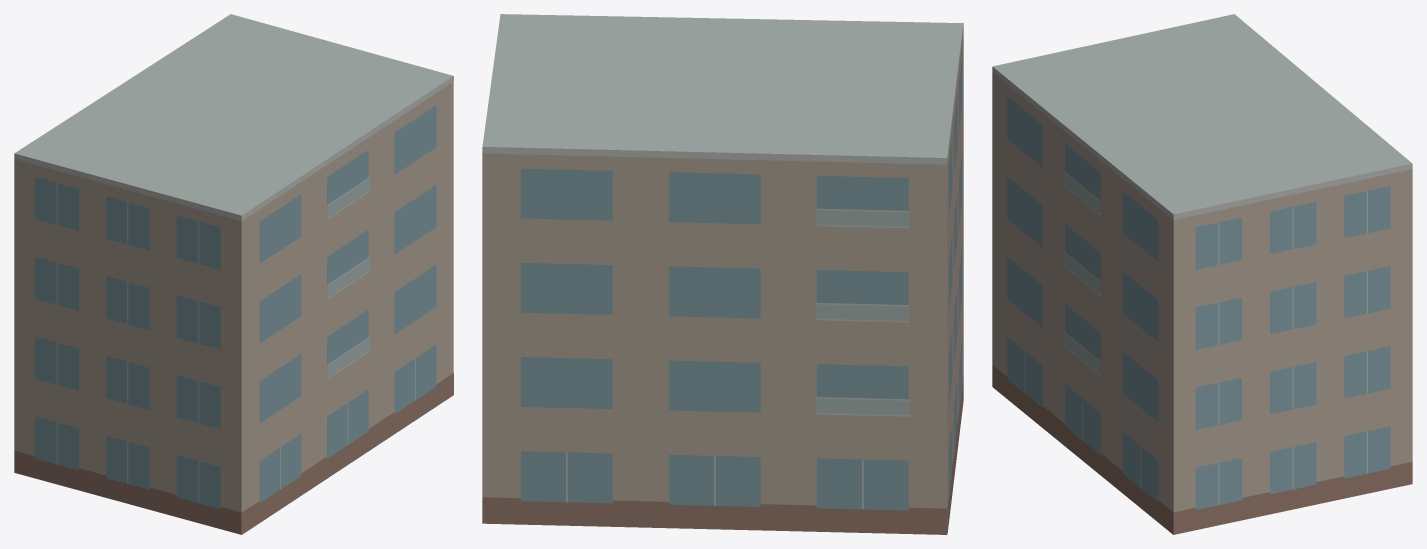
Rendered from survey-upis-32801569.glb.
The picture shows the model from 3 angles, left to right: view 1: azimuth 30°, elevation 25°; view 2: azimuth 150°, elevation 25°; view 3: azimuth 270°, elevation 25°; orthographic projection. The views are drawn at different scales.
Parts seen in each view (by area): view 1: survey-upis-32801569.tmp; view 2: survey-upis-32801569.tmp; view 3: survey-upis-32801569.tmp.
Boxes of the visible parts, x1,y1,x2,y2 form: survey-upis-32801569.tmp: (14,14,453,534); survey-upis-32801569.tmp: (482,14,963,534); survey-upis-32801569.tmp: (992,14,1412,534).
Size of the model in its own units: 18.58 by 13.85 by 16.47.
